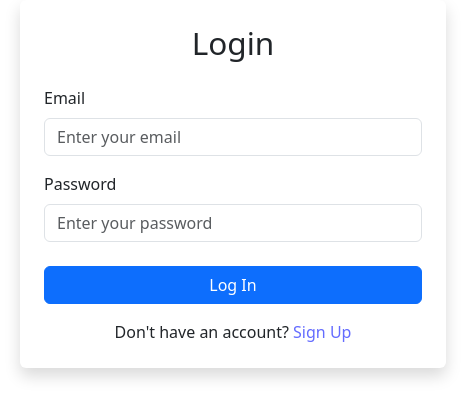
Test: Login Component › disables submit button while loading
Type "test@example.com" into the field labelled "Email" at point(233, 137), box [44,118,422,156]
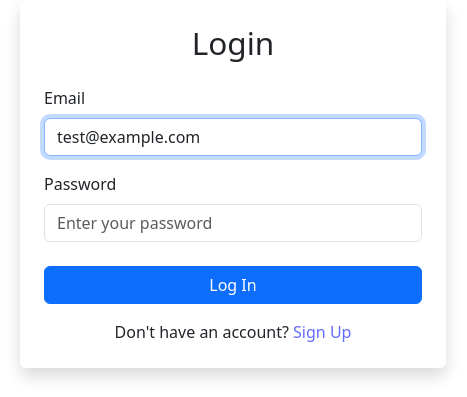
Type "password123" into the password field labelled "Password" at point(233, 223), box [44,204,422,242]
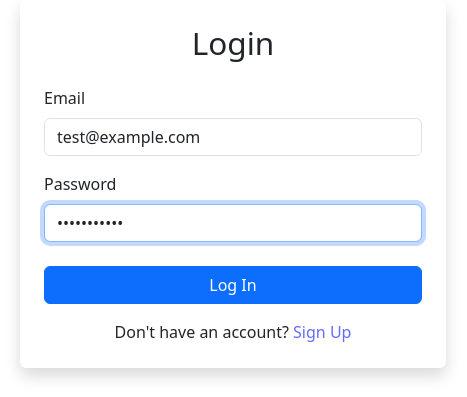
Click the button "Log In" at point(233, 285), box [44,266,422,304]
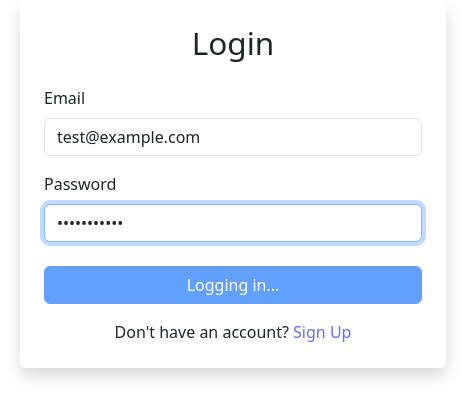
expect the button named "log in" is disabled: met, box [44,266,422,304]
expect the button named "log in" shows "Logging in": met, box [44,266,422,304]
